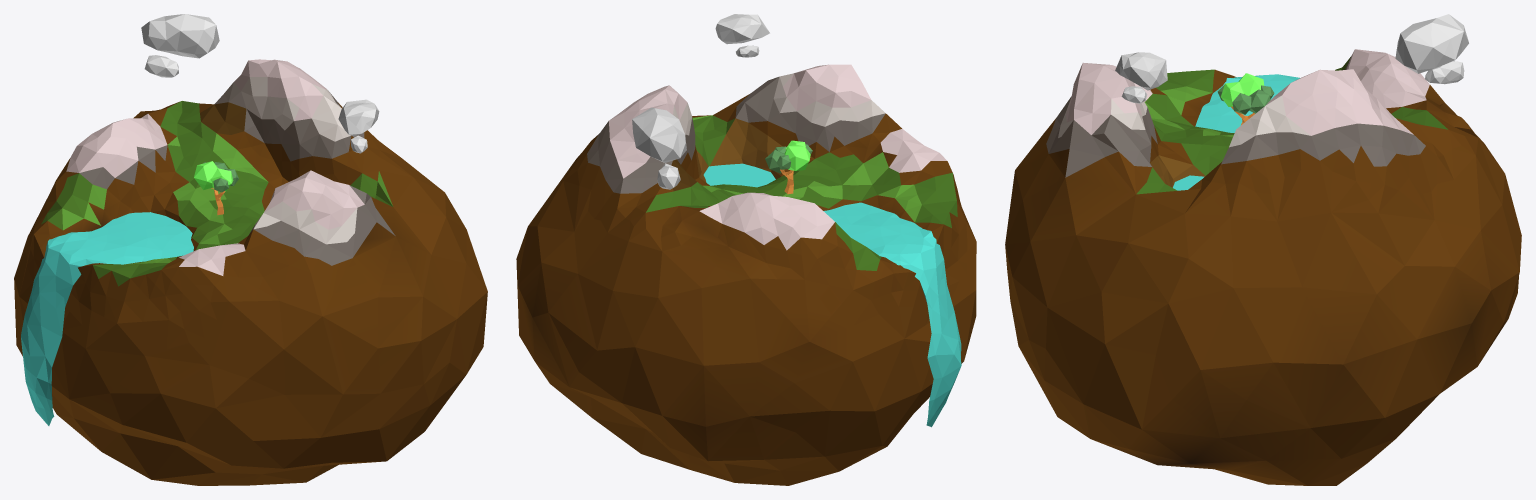
File: insel3.glb
The picture shows the model from 3 angles, left to right: view 1: azimuth 30°, elevation 25°; view 2: azimuth 150°, elevation 25°; view 3: azimuth 270°, elevation 25°; orthographic projection. The views are drawn at different scales.
Parts seen in each view (by area): view 1: Island, Water, Cloud.002, Cloud.004, Cloud.001; view 2: Island, Water, Cloud.002, Cloud.004; view 3: Island, Cloud.002, Water, Cloud.004, Cloud.001.
Boxes of the visible parts, x1,y1,x2,y2 form: Island: (14, 59, 487, 485); Water: (21, 212, 193, 425); Cloud.002: (141, 14, 219, 58); Cloud.004: (338, 99, 379, 136); Cloud.001: (144, 55, 178, 77); Island: (516, 64, 976, 485); Water: (703, 163, 961, 427); Cloud.002: (632, 107, 686, 162); Cloud.004: (715, 14, 769, 44); Island: (1005, 49, 1521, 485); Cloud.002: (1395, 14, 1468, 73); Water: (1173, 74, 1299, 190); Cloud.004: (1115, 52, 1167, 90); Cloud.001: (1425, 61, 1464, 84).
Size of the model in its own units: 20.36 by 18.59 by 19.76.
